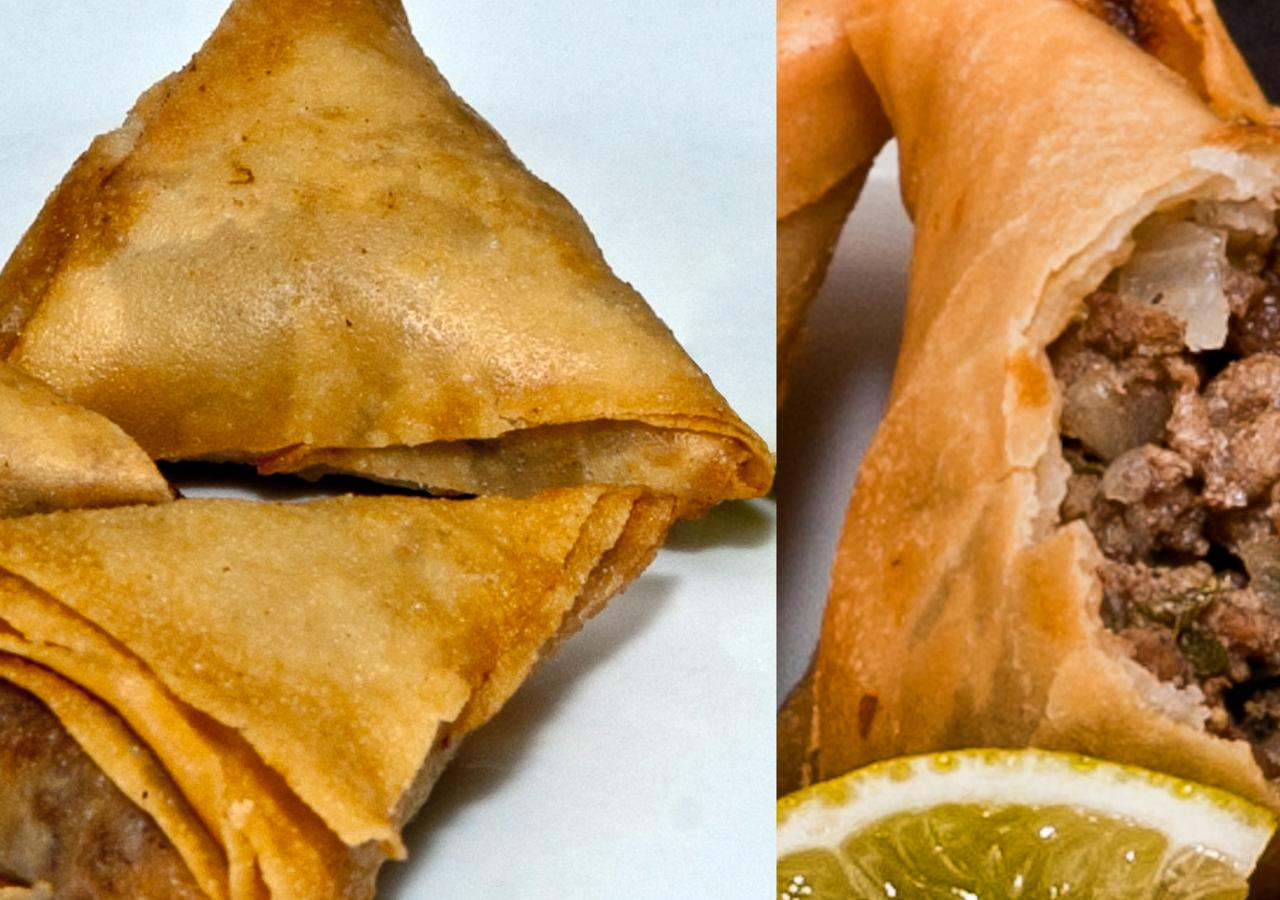samosa: (0, 0, 770, 898), (0, 0, 772, 518)
